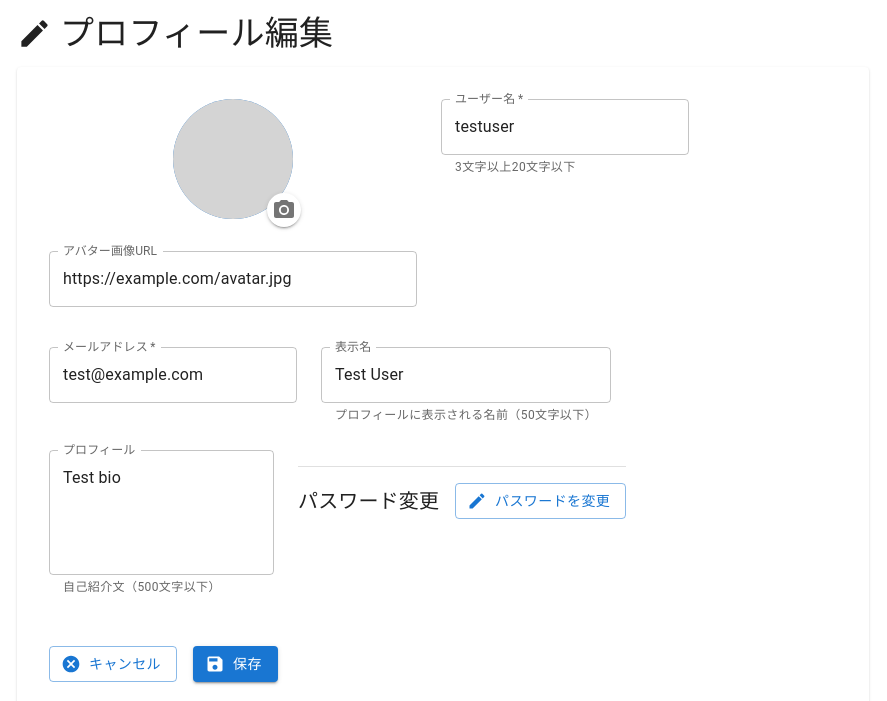
Test case: ProfileEdit › shows success message after save
Check: the field showing "testuser" is shown, box [441,99,689,155]
Click the button "保存". click: point(235, 664)
box: [193,646,278,682]
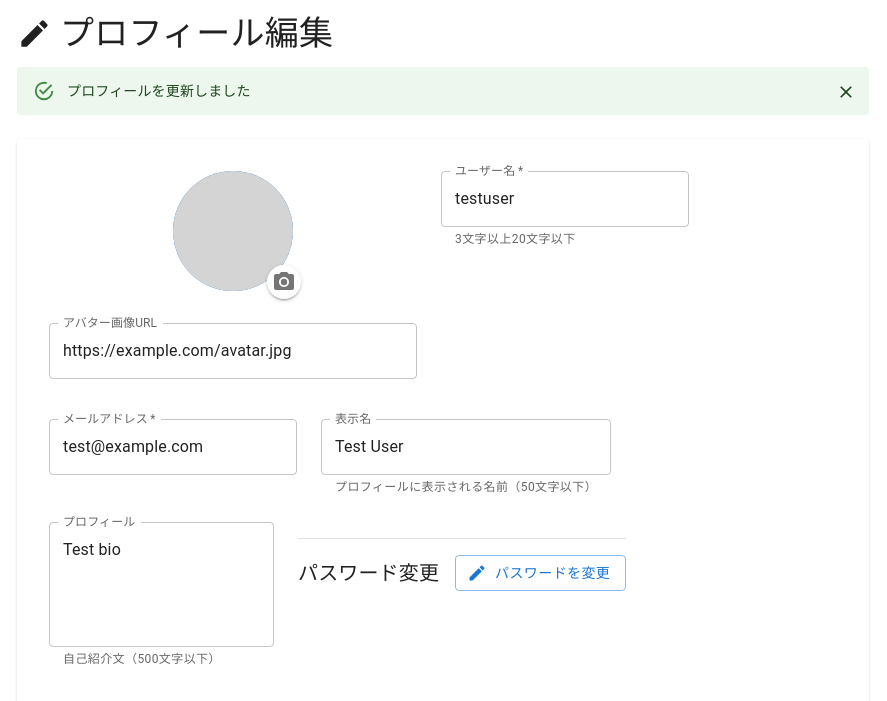
Check: the text "プロフィールを更新しました" is shown, box [67,83,251,99]
